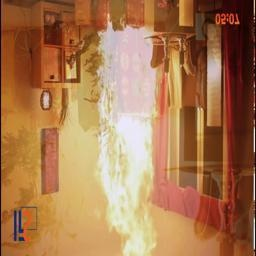fire: (81, 29, 166, 256)
